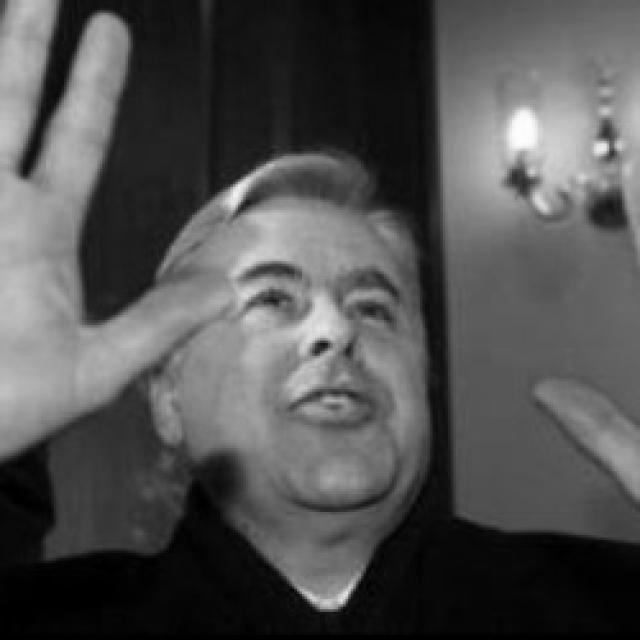real: (210, 210, 430, 510), (234, 265, 401, 328)
